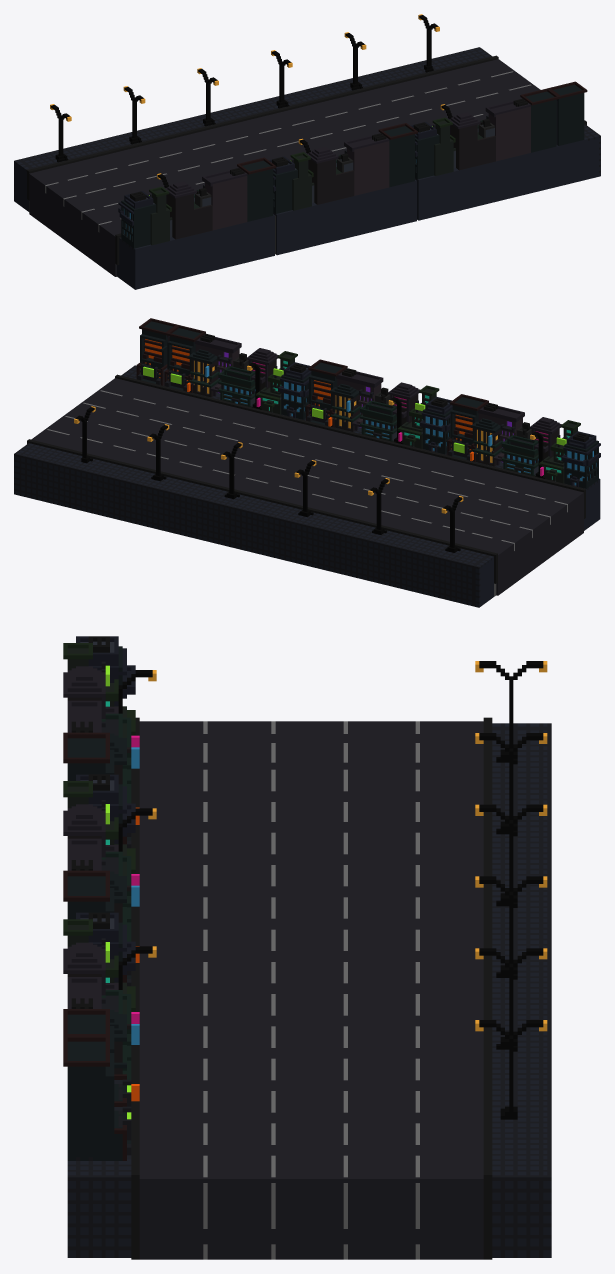
File: Mapa_Noche_3.obj
3 renders of one model, top to bottom at view 1: azimuth 30°, elevation 25°; view 2: azimuth 150°, elevation 25°; view 3: azimuth 270°, elevation 25°, orthographic. The views are drawn at different scales.
Bounding box in the file's own units: 25.5 × 4.7 × 11.5.
Materials: 1 (1 with a texture image).
